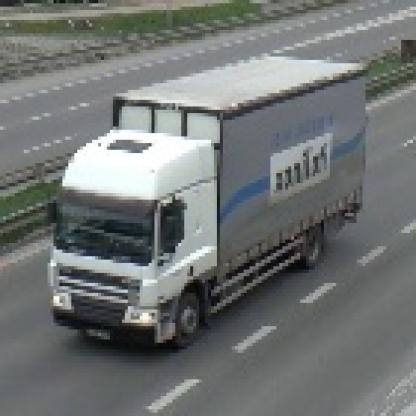truck: (46, 48, 367, 347)
